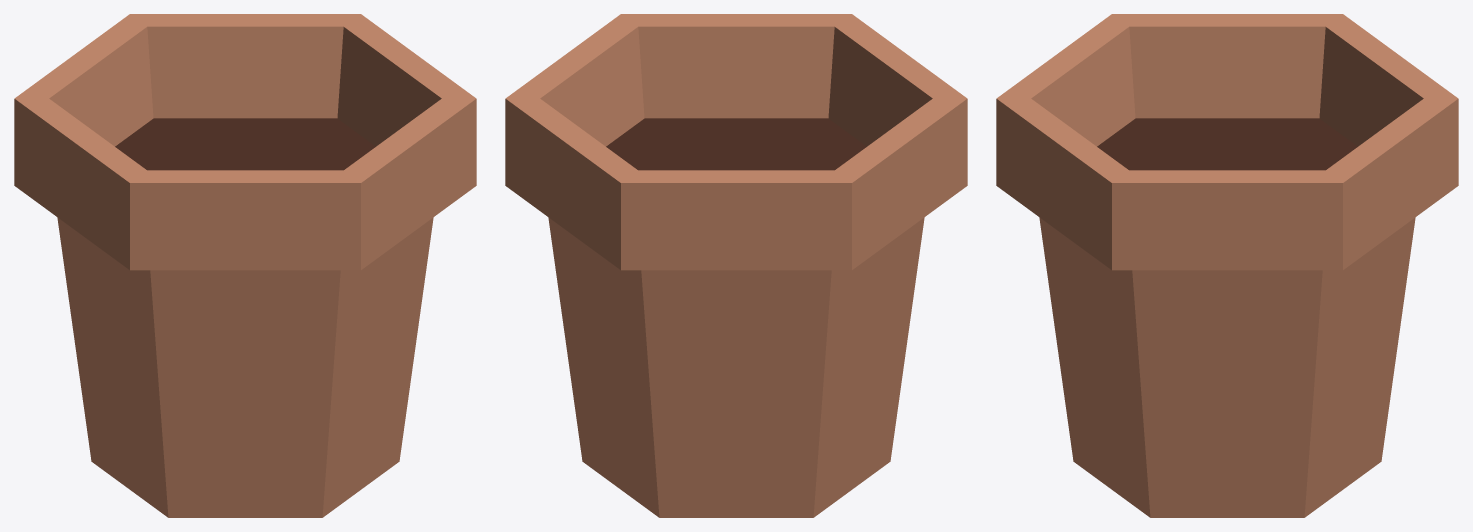
Rendered from FlowerPot1Soil.fbx.
3 renders of one model, left to right at view 1: azimuth 30°, elevation 25°; view 2: azimuth 150°, elevation 25°; view 3: azimuth 270°, elevation 25°, orthographic.
Parts seen in each view (by area): view 1: Cylinder; view 2: Cylinder; view 3: Cylinder.
Part boxes in pixels (left/top/right/bottom): Cylinder: left=14, top=14, right=476, bottom=517; Cylinder: left=505, top=14, right=967, bottom=517; Cylinder: left=996, top=14, right=1458, bottom=517.
Bounding box in the file's own units: 0.3118 × 0.3121 × 0.36.
